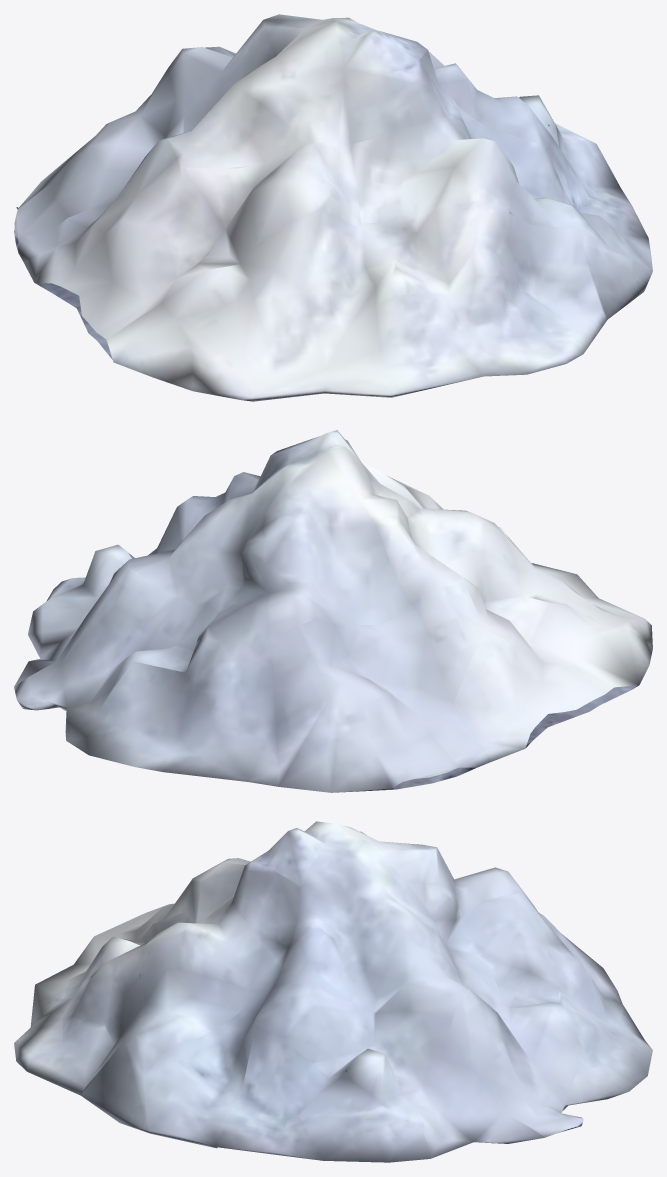
The model's file is dio_snow_pile.glb.
3 views of the same model, one above another, from view 1: azimuth 30°, elevation 25°; view 2: azimuth 150°, elevation 25°; view 3: azimuth 270°, elevation 25° (orthographic). The views are drawn at different scales.
Parts seen in each view (by area): view 1: tripo_part_4; view 2: tripo_part_4; view 3: tripo_part_4.
Boxes of the visible parts, bbox=[...] form: tripo_part_4: bbox=[14, 14, 652, 401]; tripo_part_4: bbox=[14, 430, 652, 792]; tripo_part_4: bbox=[14, 821, 652, 1162].
Size of the model in its own units: 0.2371 by 0.0939 by 0.2525.
1 material, 1 textured.
